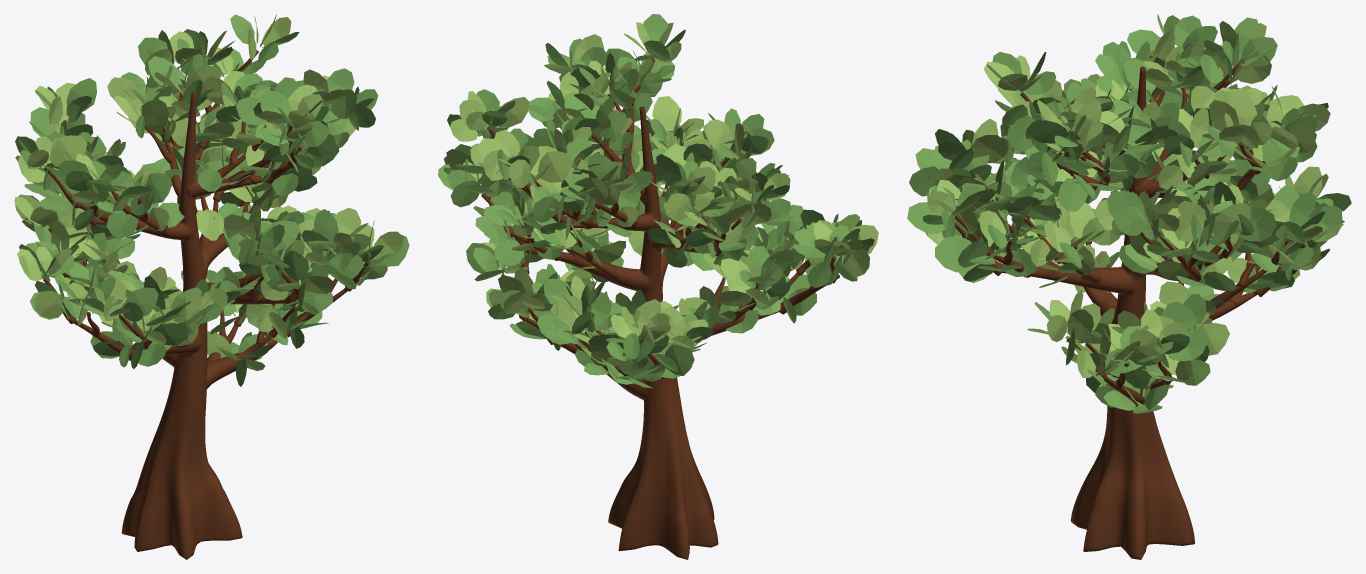
File: Tree_Young_Upright_LOD0.fbx
3 renders of one model, left to right at view 1: azimuth 30°, elevation 25°; view 2: azimuth 150°, elevation 25°; view 3: azimuth 270°, elevation 25°, orthographic. The views are drawn at different scales.
Visible parts, largest first — view 1: Tree_Young_Upright_Foliage_LOD0_FBX_Triangulated, Tree_Young_Upright_Bark_LOD0_FBX_Triangulated; view 2: Tree_Young_Upright_Foliage_LOD0_FBX_Triangulated, Tree_Young_Upright_Bark_LOD0_FBX_Triangulated; view 3: Tree_Young_Upright_Foliage_LOD0_FBX_Triangulated, Tree_Young_Upright_Bark_LOD0_FBX_Triangulated.
Part boxes in pixels (<box>): Tree_Young_Upright_Foliage_LOD0_FBX_Triangulated: <box>14,14,409,386</box>; Tree_Young_Upright_Bark_LOD0_FBX_Triangulated: <box>43,50,370,559</box>; Tree_Young_Upright_Foliage_LOD0_FBX_Triangulated: <box>438,14,878,388</box>; Tree_Young_Upright_Bark_LOD0_FBX_Triangulated: <box>481,59,839,559</box>; Tree_Young_Upright_Foliage_LOD0_FBX_Triangulated: <box>907,14,1351,413</box>; Tree_Young_Upright_Bark_LOD0_FBX_Triangulated: <box>955,63,1306,559</box>.
Bounding box in the file's own units: 4.1 × 4.68 × 3.68.
